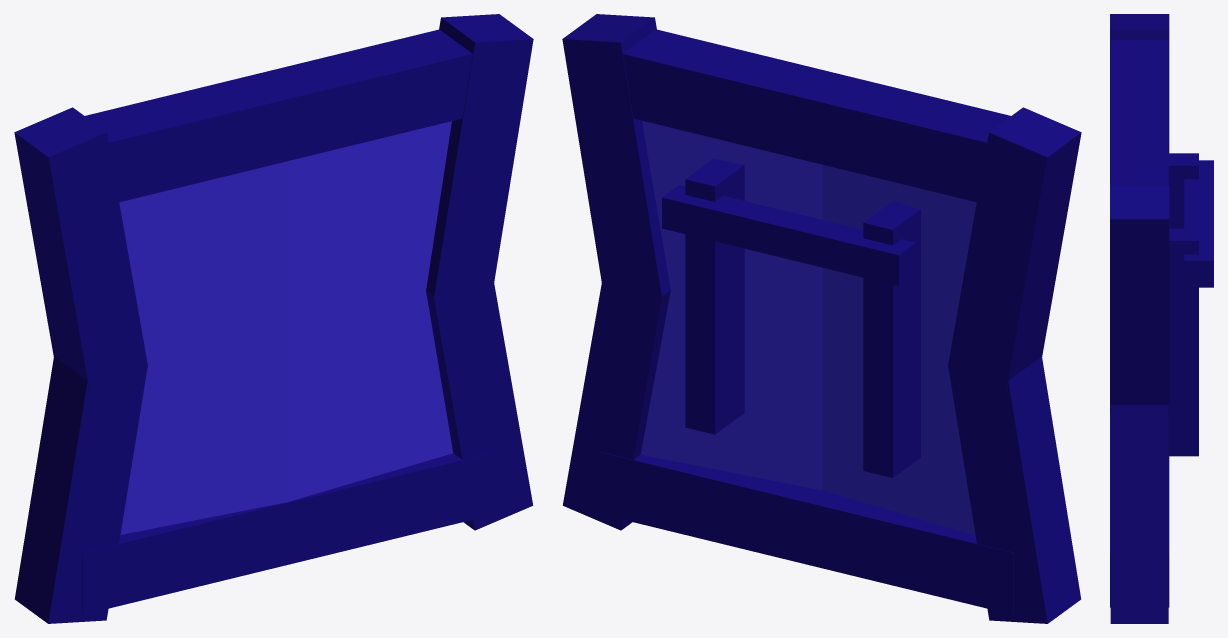
File: HeavyLargeShield.fbx
3 renders of one model, left to right at view 1: azimuth 30°, elevation 25°; view 2: azimuth 150°, elevation 25°; view 3: azimuth 270°, elevation 25°, orthographic. The views are drawn at different scales.
Visible parts, largest first — view 1: Cube.014, Cube.001; view 2: Cube.014, Cube.001, Cube.017; view 3: Cube.014, Cube.017.
Part boxes in pixels (box(x1,y1,x2,y2)): Cube.014: box(14, 14, 533, 623); Cube.001: box(119, 121, 453, 534); Cube.014: box(562, 14, 1081, 623); Cube.001: box(640, 120, 976, 535); Cube.017: box(662, 158, 920, 477); Cube.014: box(1110, 14, 1169, 623); Cube.017: box(1168, 153, 1213, 456).
Bounding box in the file's own units: 164 × 157 × 35.
